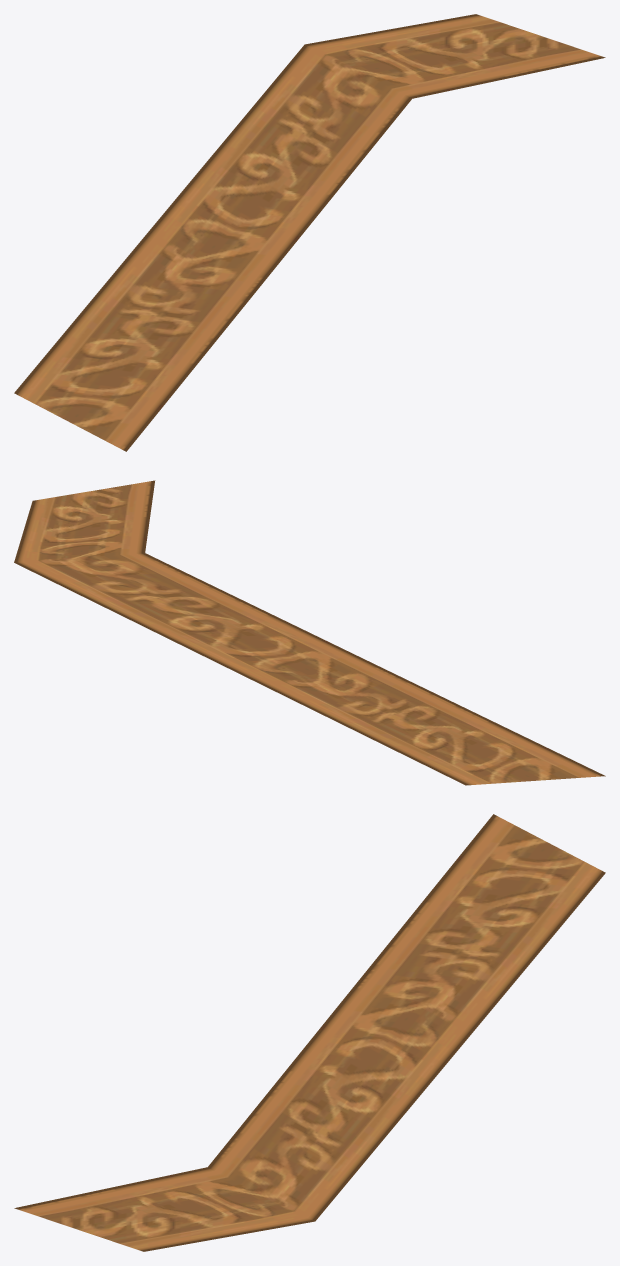
File: EKH_THRONE_PS_TH_FLOORTRIM_0011.fbx
3 renders of one model, top to bottom at view 1: azimuth 90°, elevation 25°; view 2: azimuth 150°, elevation 25°; view 3: azimuth 270°, elevation 25°, orthographic. The views are drawn at different scales.
Parts seen in each view (by area): view 1: EKH_THRONE_PS_TH_FLOORTRIM_0011; view 2: EKH_THRONE_PS_TH_FLOORTRIM_0011; view 3: EKH_THRONE_PS_TH_FLOORTRIM_0011.
Part boxes in pixels (x1,y1,x2,y2): EKH_THRONE_PS_TH_FLOORTRIM_0011: [14, 14, 605, 451]; EKH_THRONE_PS_TH_FLOORTRIM_0011: [14, 480, 605, 785]; EKH_THRONE_PS_TH_FLOORTRIM_0011: [14, 814, 605, 1251].
Size of the model in its own units: 19295 by 0.00271 by 11024.
Materials: 1 (1 with a texture image).
